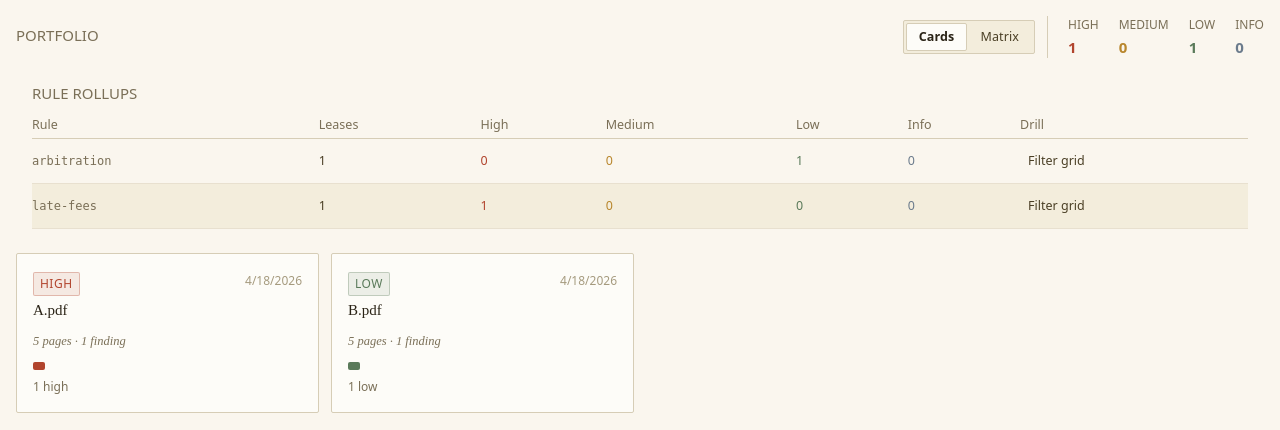
Test: PortfolioPanel › renders a row per lease and a column per unique rule id
The image size is (1280, 430).
Click the tab "Matrix": click(1000, 37) [968, 23, 1032, 51]
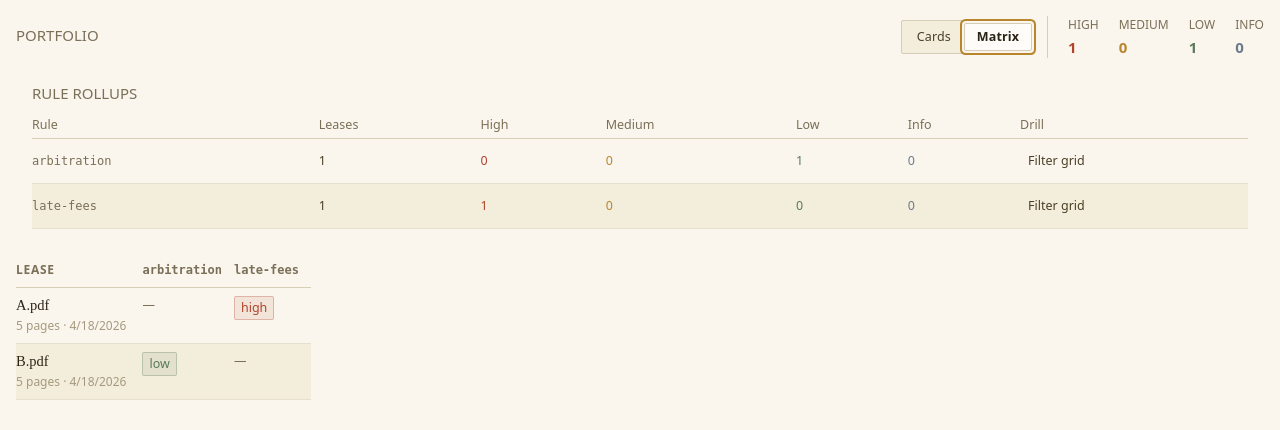
Expected: the button "A.pdf" is shown, [16, 296, 49, 314]
Now the column heading "late-fees" is shown, box [234, 253, 311, 288]
Now the column heading "arbitration" is shown, box [142, 253, 234, 288]
